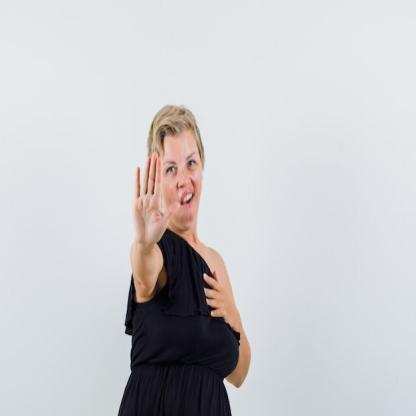stop: (132, 153, 182, 248)
